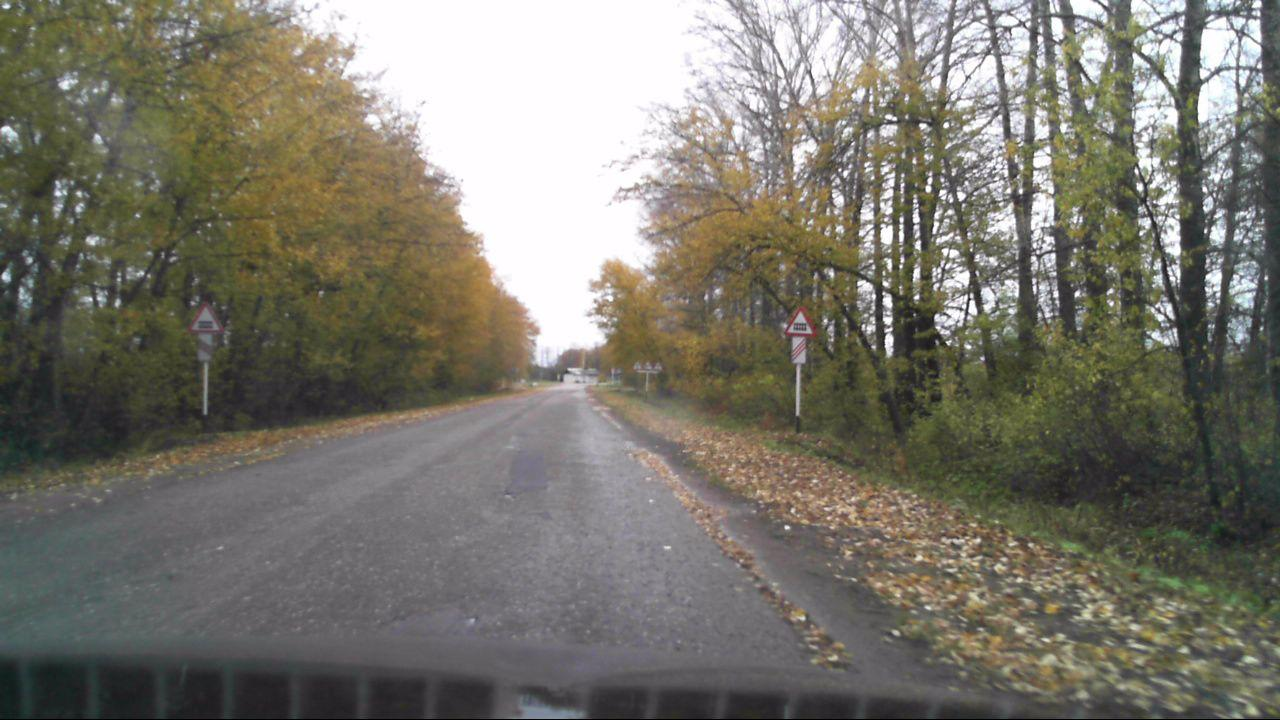1_1: (782, 306, 816, 338), (189, 303, 221, 333)
7_11: (196, 333, 215, 361)
7_5: (790, 338, 807, 363)
